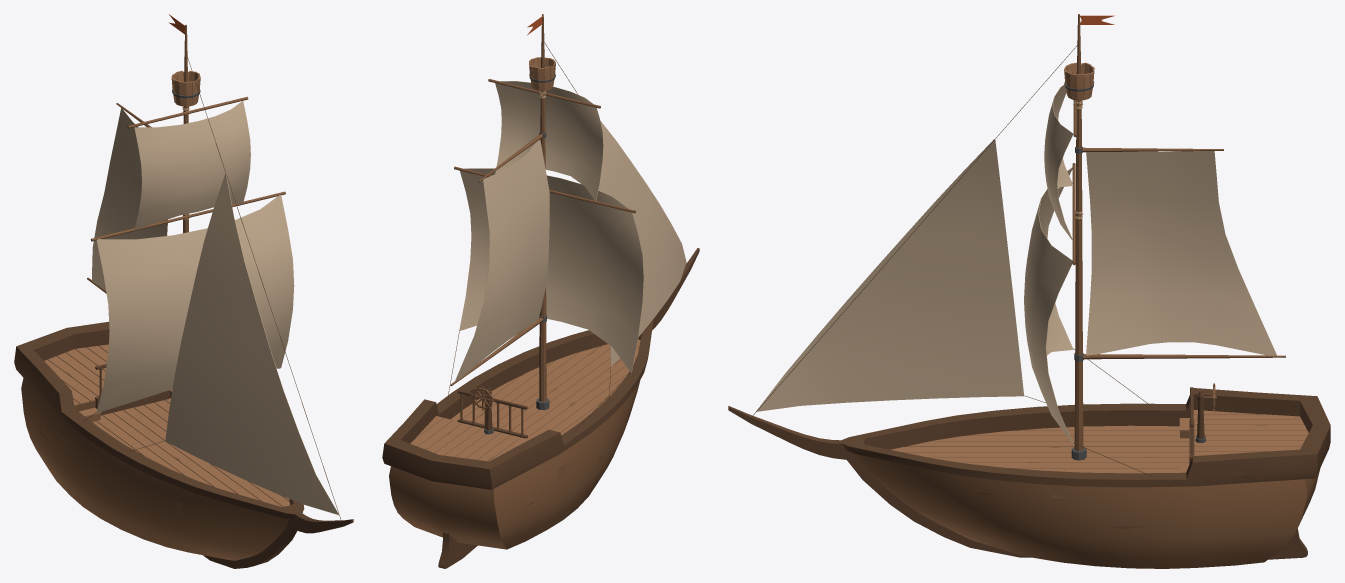
File: Ship_02.fbx
The picture shows the model from 3 angles, left to right: view 1: azimuth 30°, elevation 25°; view 2: azimuth 150°, elevation 25°; view 3: azimuth 270°, elevation 25°; orthographic projection. The views are drawn at different scales.
Parts seen in each view (by area): view 1: Ship_02_1_LOD0, Ship_02_2_LOD0; view 2: Ship_02_1_LOD0, Ship_02_2_LOD0; view 3: Ship_02_1_LOD0, Ship_02_2_LOD0.
Boxes of the visible parts, x1,y1,x2,y2 form: Ship_02_1_LOD0: [14, 14, 353, 568]; Ship_02_2_LOD0: [87, 103, 167, 293]; Ship_02_1_LOD0: [382, 14, 699, 568]; Ship_02_2_LOD0: [450, 131, 549, 386]; Ship_02_1_LOD0: [728, 14, 1330, 568]; Ship_02_2_LOD0: [1074, 146, 1285, 361].
Size of what is drawn, in the model's own units: 5.79 by 14.74 by 14.81.
